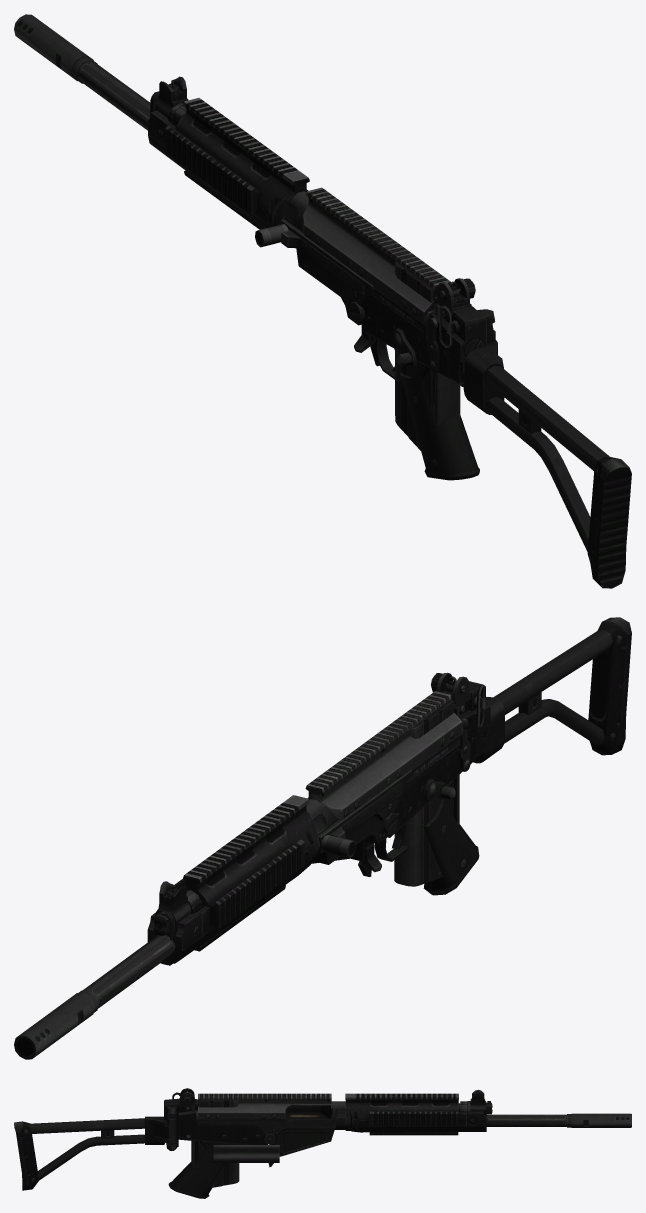
3 renders of one model, top to bottom at view 1: azimuth 30°, elevation 25°; view 2: azimuth 150°, elevation 25°; view 3: azimuth 270°, elevation 25°, orthographic. The views are drawn at different scales.
Parts seen in each view (by area): view 1: Body, Magazine; view 2: Body, Magazine; view 3: Body, Bolt, Magazine.
Part boxes in pixels (x1,y1,x2,y2): Body: [14, 14, 631, 588]; Magazine: [395, 262, 460, 450]; Body: [14, 617, 631, 1059]; Magazine: [394, 699, 459, 886]; Body: [14, 1088, 631, 1198]; Bolt: [213, 1144, 279, 1162]; Magazine: [191, 1099, 239, 1188].
Size of the model in its own units: 0.1119 by 0.2148 by 1.13.
Materials: 1 (1 with a texture image).
